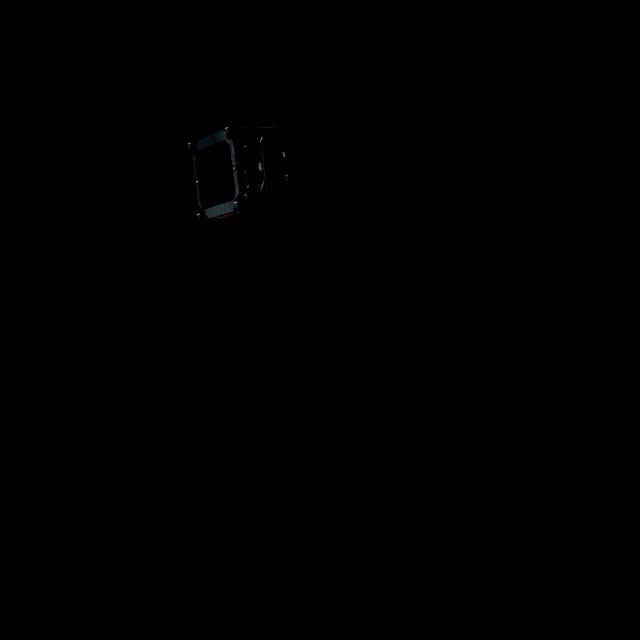medium_debris: (188, 120, 299, 234)
